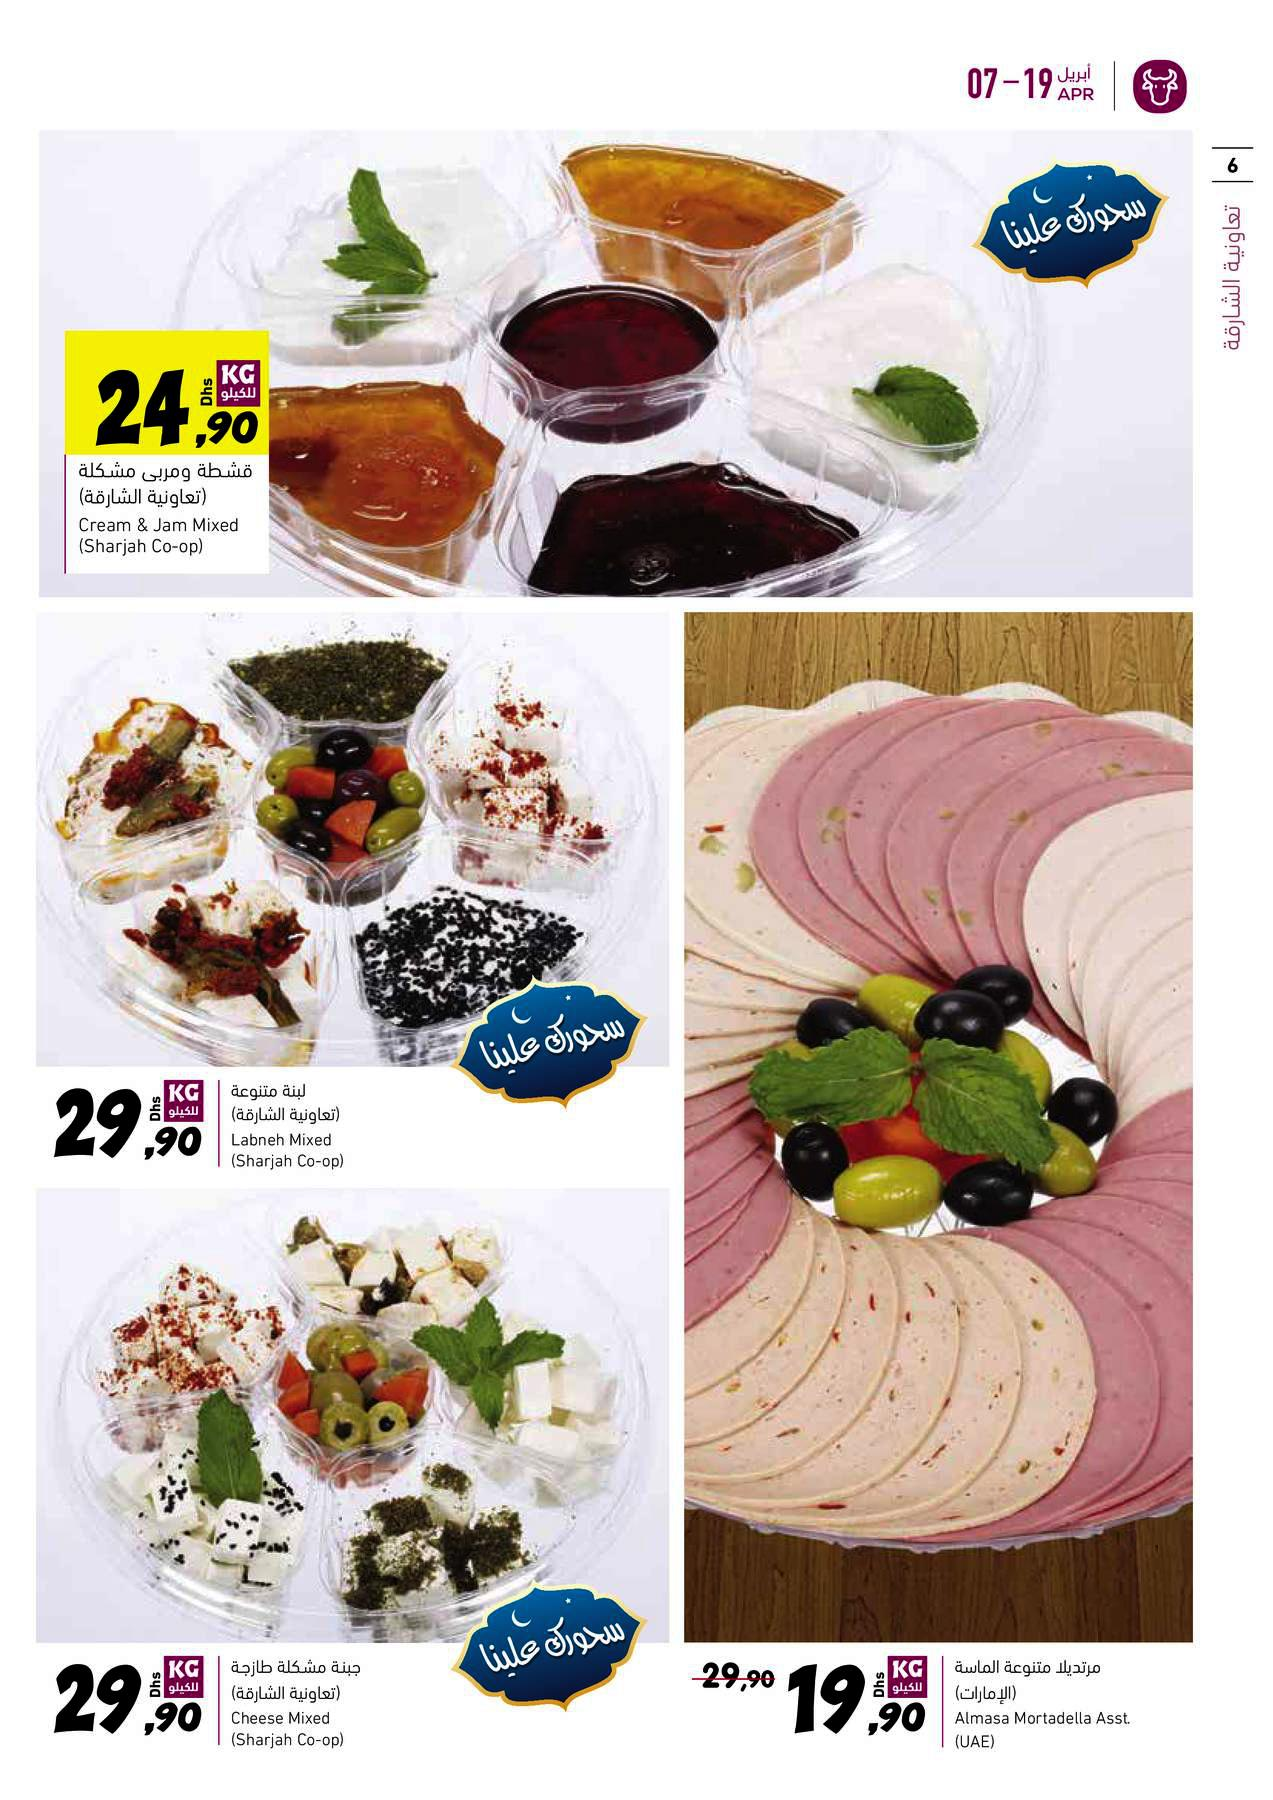text: (69, 454, 260, 567), (946, 1654, 1142, 1761), (225, 1653, 379, 1757), (226, 1074, 354, 1176)
